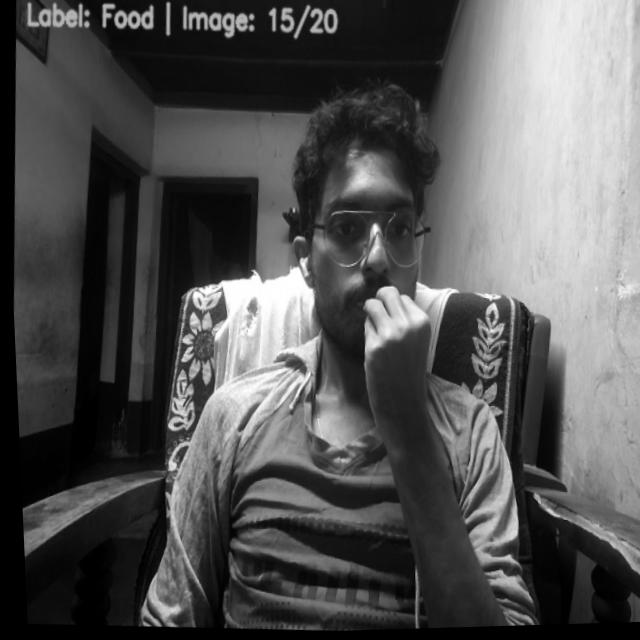Food: (350, 283, 442, 421)
